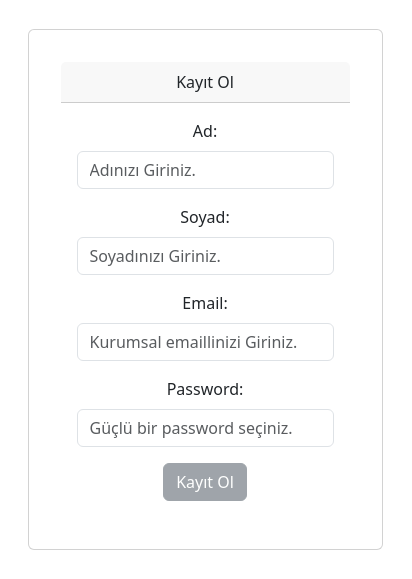
Scenario: Form Page › Form Page › Name input throws error for 2 chars
Type "ba" into the field with test id "ad-input".
click(206, 170); type("ba")  # box [77,151,334,189]
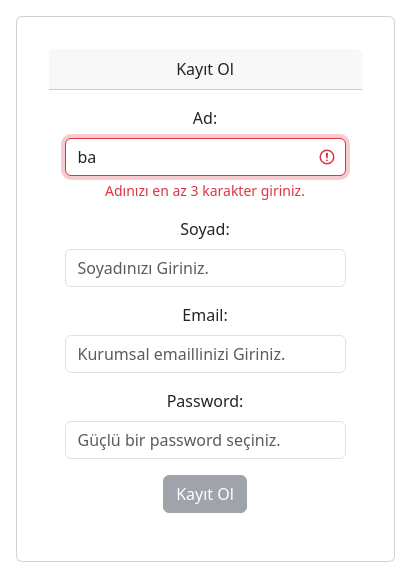
Now the text "Adınızı en az 3 karakter giriniz." is shown, box [105,181,305,200]
